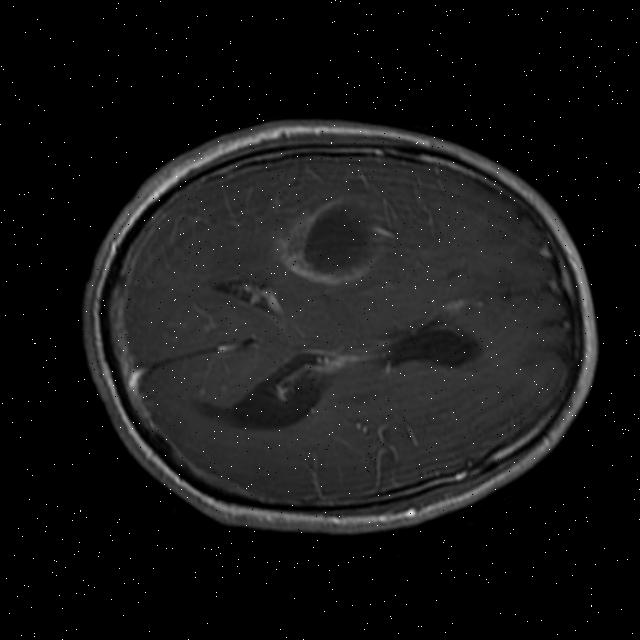Glioma: (261, 182, 402, 301)
